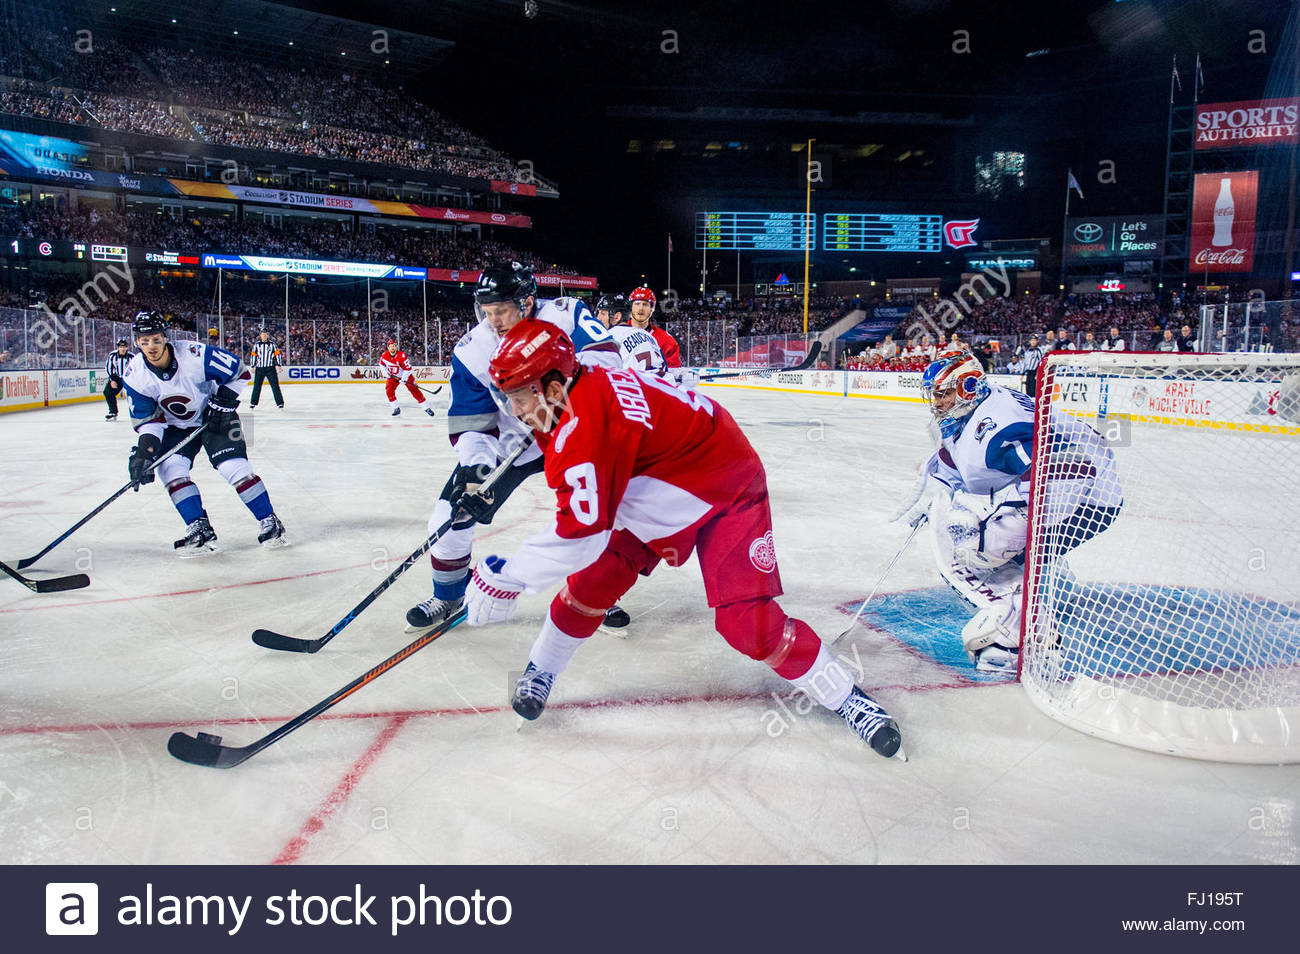geico: (286, 358, 348, 390)
